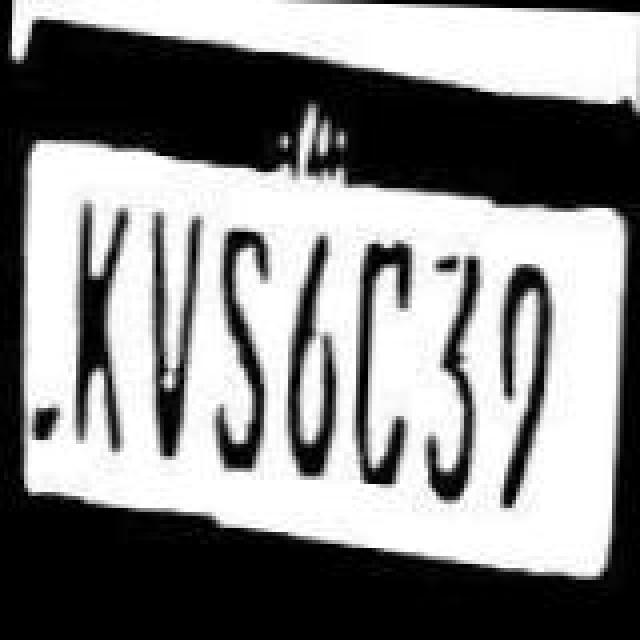3: (418, 210, 494, 518)
6: (282, 208, 350, 504)
9: (490, 216, 566, 536)
C: (340, 206, 428, 510)
K: (58, 198, 142, 498)
S: (202, 206, 286, 510)
V: (134, 200, 210, 492)
